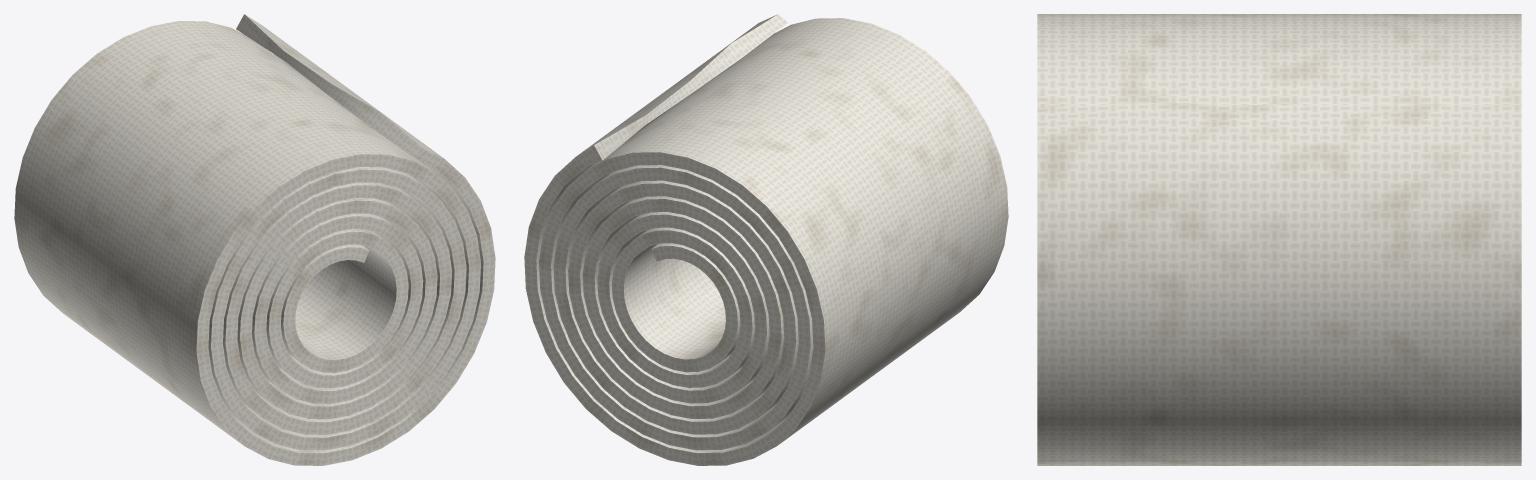
The model's file is bandage.fbx.
3 renders of one model, left to right at view 1: azimuth 30°, elevation 25°; view 2: azimuth 150°, elevation 25°; view 3: azimuth 270°, elevation 25°, orthographic. The views are drawn at different scales.
Parts seen in each view (by area): view 1: Bandage; view 2: Bandage; view 3: Bandage.
Boxes of the visible parts, bbox=[...] form: Bandage: bbox=[14, 14, 495, 465]; Bandage: bbox=[524, 14, 1008, 465]; Bandage: bbox=[1037, 14, 1521, 465].
Size of the model in its own units: 0.0474 by 0.0463 by 0.05.
1 material, 1 textured.
